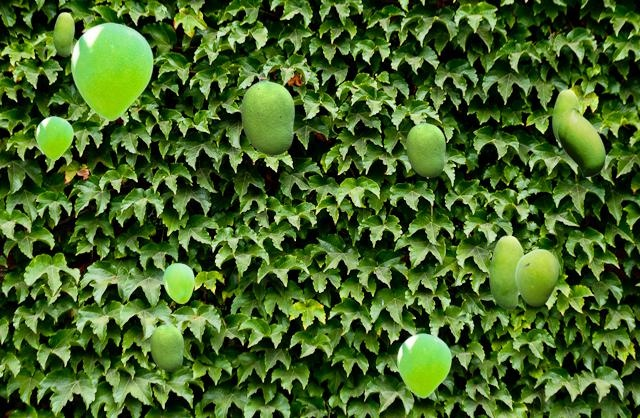green_mango: (71, 22, 152, 120), (241, 77, 293, 154), (397, 333, 450, 397), (557, 107, 604, 176), (489, 235, 523, 308), (515, 249, 557, 305), (406, 120, 444, 176), (36, 116, 72, 159), (150, 322, 182, 370), (552, 89, 578, 143), (163, 263, 193, 302), (53, 12, 73, 55)
